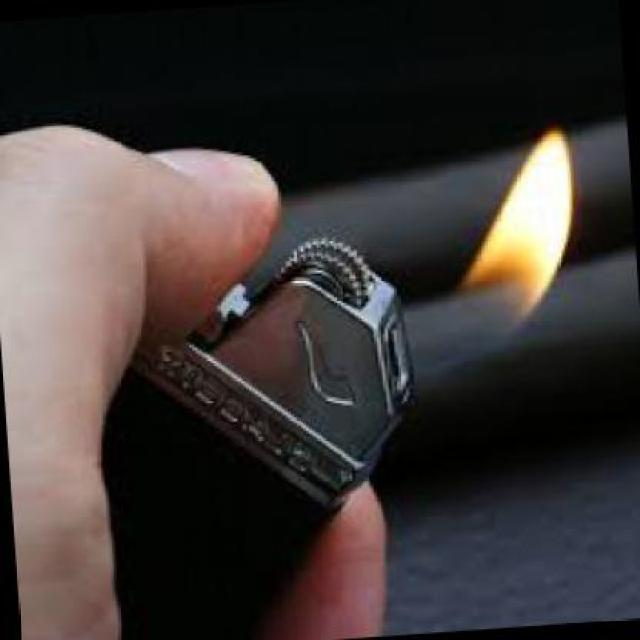Fire: (408, 120, 612, 392)
